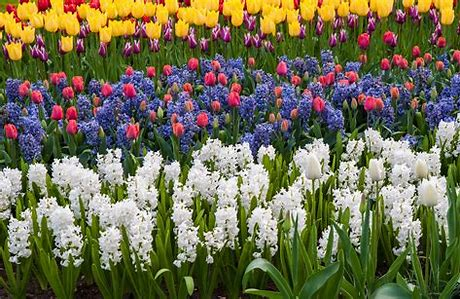inorganic: (2, 162, 447, 281), (5, 69, 446, 156), (2, 6, 454, 86)
